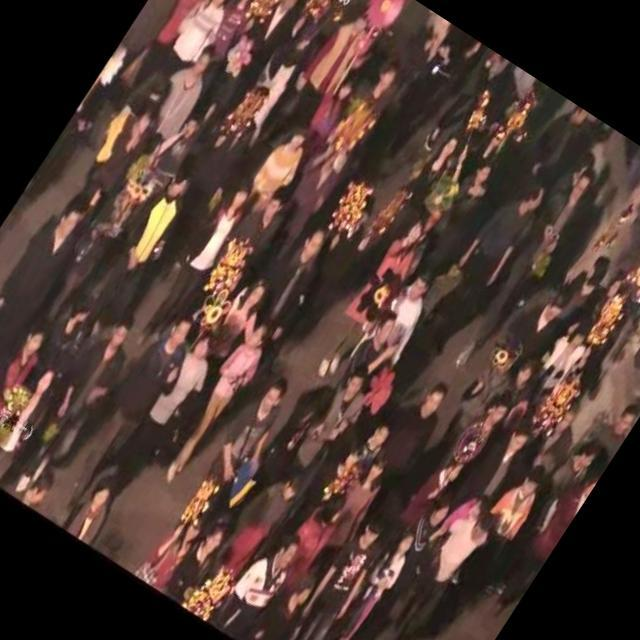person: (444, 160, 608, 386), (56, 304, 208, 511), (407, 167, 559, 368), (62, 164, 210, 356), (7, 306, 153, 494), (300, 203, 440, 393), (129, 167, 269, 357), (422, 455, 562, 640), (340, 487, 508, 640), (476, 436, 614, 622), (150, 306, 286, 494), (104, 322, 236, 494), (252, 111, 378, 273), (322, 496, 462, 640), (66, 0, 208, 138), (265, 500, 404, 640), (0, 196, 100, 381), (225, 0, 350, 146), (364, 21, 482, 170), (192, 0, 312, 132), (274, 0, 388, 136), (305, 517, 428, 640), (202, 458, 309, 597), (361, 128, 466, 268), (282, 360, 386, 498), (198, 370, 305, 504), (402, 154, 508, 284), (365, 364, 470, 492), (208, 520, 317, 640), (246, 223, 346, 347), (314, 529, 423, 640), (202, 180, 300, 300), (131, 32, 229, 150), (421, 46, 512, 165), (311, 448, 404, 563), (260, 484, 354, 596), (0, 356, 72, 491), (0, 313, 58, 472), (240, 108, 328, 211), (127, 0, 226, 86), (30, 285, 114, 384), (77, 96, 159, 196), (200, 270, 280, 370), (157, 517, 238, 615), (134, 501, 214, 598), (498, 282, 576, 377), (464, 414, 539, 508), (448, 386, 524, 476), (530, 312, 604, 404), (519, 389, 597, 476), (396, 443, 469, 532), (163, 0, 244, 76), (526, 98, 598, 182), (58, 469, 128, 552), (142, 106, 210, 190), (247, 569, 324, 640), (346, 51, 414, 129), (554, 246, 620, 316), (577, 400, 639, 472), (203, 0, 274, 62), (6, 458, 63, 518)
